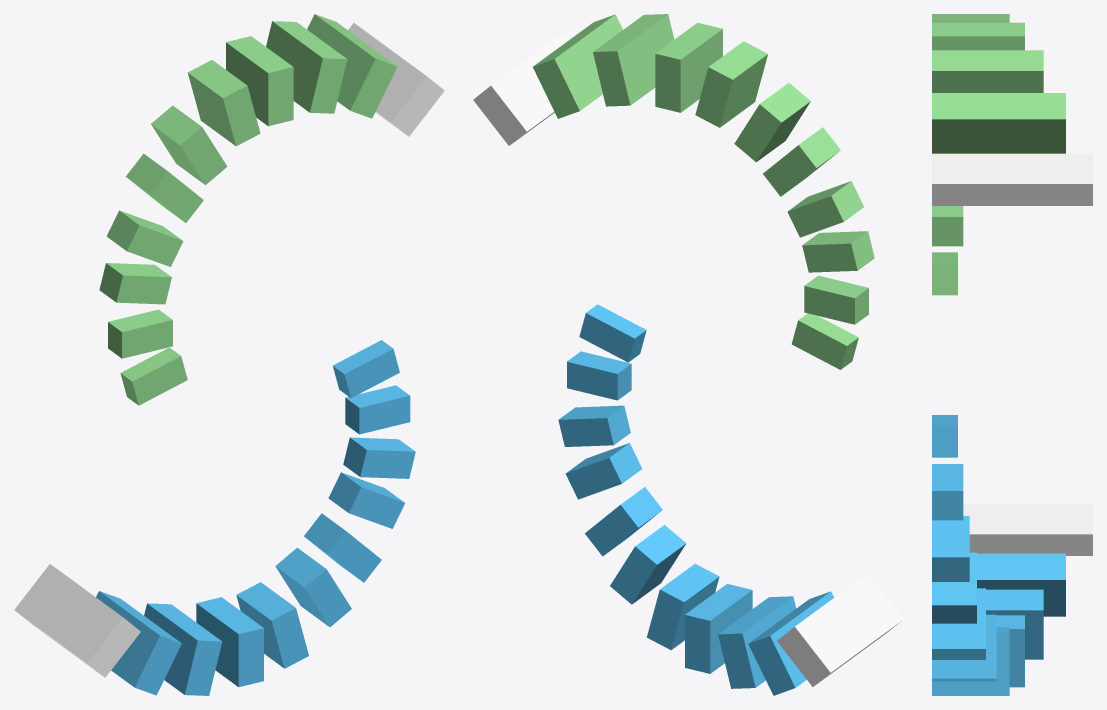
The model's file is disc_cube.obj.
3 views of the same model, side by side, from view 1: azimuth 30°, elevation 25°; view 2: azimuth 150°, elevation 25°; view 3: azimuth 270°, elevation 25° (orthographic). The views are drawn at different scales.
Visible parts, largest first — view 1: cube22, cube3, cube2, cube4, cube19, cube20, cube5, cube21, cube1, cube18, cube6, cube17 (+10 smaller); view 2: cube22, cube3, cube2, cube1, cube4, cube5, cube19, cube20, cube18, cube17, cube6, cube21 (+10 smaller); view 3: cube1, cube2, cube22, cube3, cube21, cube4, cube20, cube14, cube16, cube15, cube17, cube18 (+6 smaller).
Part boxes in pixels (x1,y1,x2,y2): cube22: (14,564,140,677); cube3: (266,21,347,113); cube2: (307,14,397,118); cube4: (226,36,293,126); cube19: (196,597,263,687); cube20: (144,603,222,695); cube5: (187,60,260,146); cube21: (96,591,181,695); cube1: (348,23,444,136); cube18: (236,582,308,668); cube6: (151,105,227,184); cube17: (275,547,351,626); cube22: (777,573,903,686); cube3: (593,14,674,106); cube2: (533,14,622,118); cube1: (473,32,569,145); cube4: (655,22,722,112); cube5: (695,41,767,127); cube19: (685,584,752,673); cube20: (718,596,796,688); cube18: (646,563,719,649); cube17: (610,525,686,604); cube6: (734,83,810,162); cube21: (748,591,833,695); cube1: (932,153,1092,205); cube2: (932,93,1065,153); cube22: (963,504,1092,555); cube3: (932,50,1043,92); cube21: (977,553,1065,616); cube4: (932,22,1024,50); cube20: (986,589,1043,659); cube14: (932,516,969,581); cube16: (932,588,985,659); cube15: (932,552,976,623); cube17: (932,614,996,681); cube18: (932,627,1009,695).
Size of the model in its own units: 7.05 by 11.49 by 2.5.
